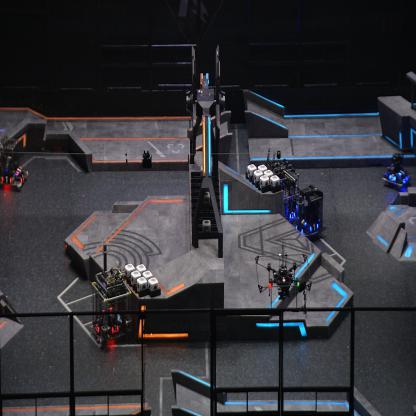car: (91, 267, 132, 349), (265, 160, 301, 226), (294, 186, 326, 239), (0, 137, 29, 191), (380, 152, 410, 191)
